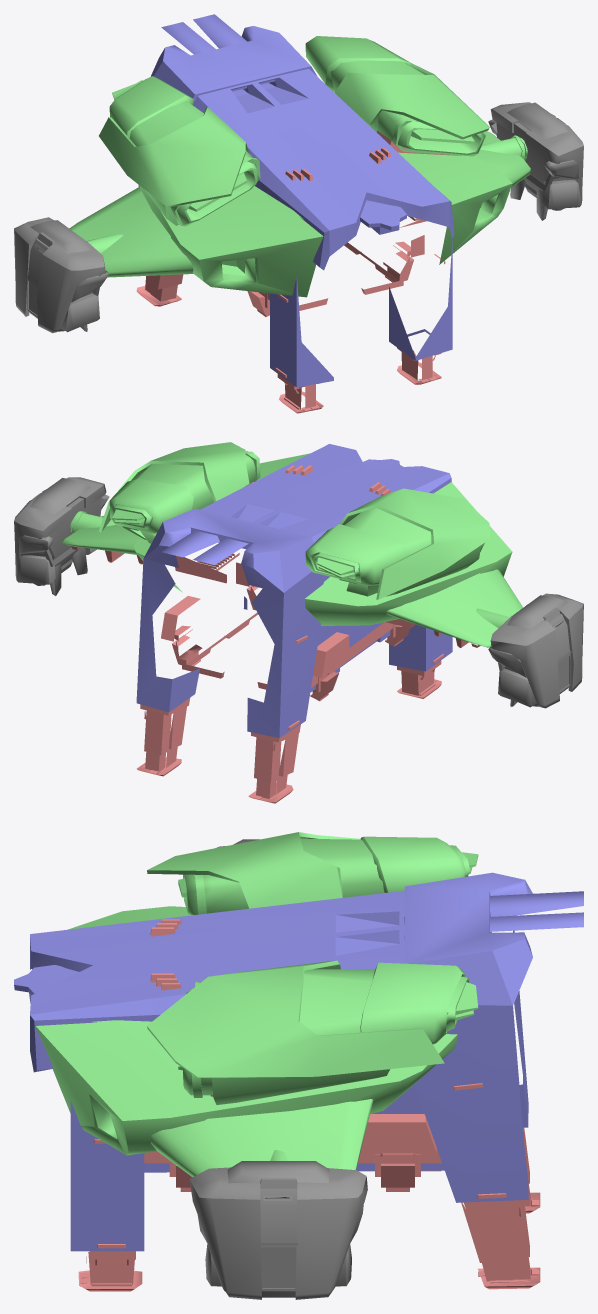
Rendered from SM_vehicle_dropship_raiders_A_middleOutside.gltf.
3 views of the same model, one above another, from view 1: azimuth 30°, elevation 25°; view 2: azimuth 150°, elevation 25°; view 3: azimuth 270°, elevation 25° (orthographic). The views are drawn at different scales.
Parts seen in each view (by area): view 1: SM_vehicle_dropship_raiders_A_middleOutside; view 2: SM_vehicle_dropship_raiders_A_middleOutside; view 3: SM_vehicle_dropship_raiders_A_middleOutside.
Boxes of the visible parts, x1,y1,x2,y2 form: SM_vehicle_dropship_raiders_A_middleOutside: (14,14,583,413); SM_vehicle_dropship_raiders_A_middleOutside: (14,442,583,803); SM_vehicle_dropship_raiders_A_middleOutside: (14,832,583,1299).
Bounding box in the file's own units: 19.72 × 8.58 × 13.2.
